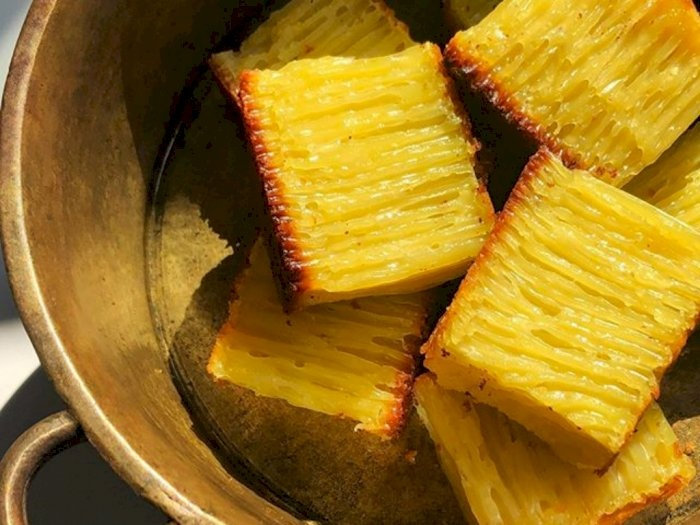bika_ambon: (433, 135, 691, 487), (224, 31, 479, 286)
